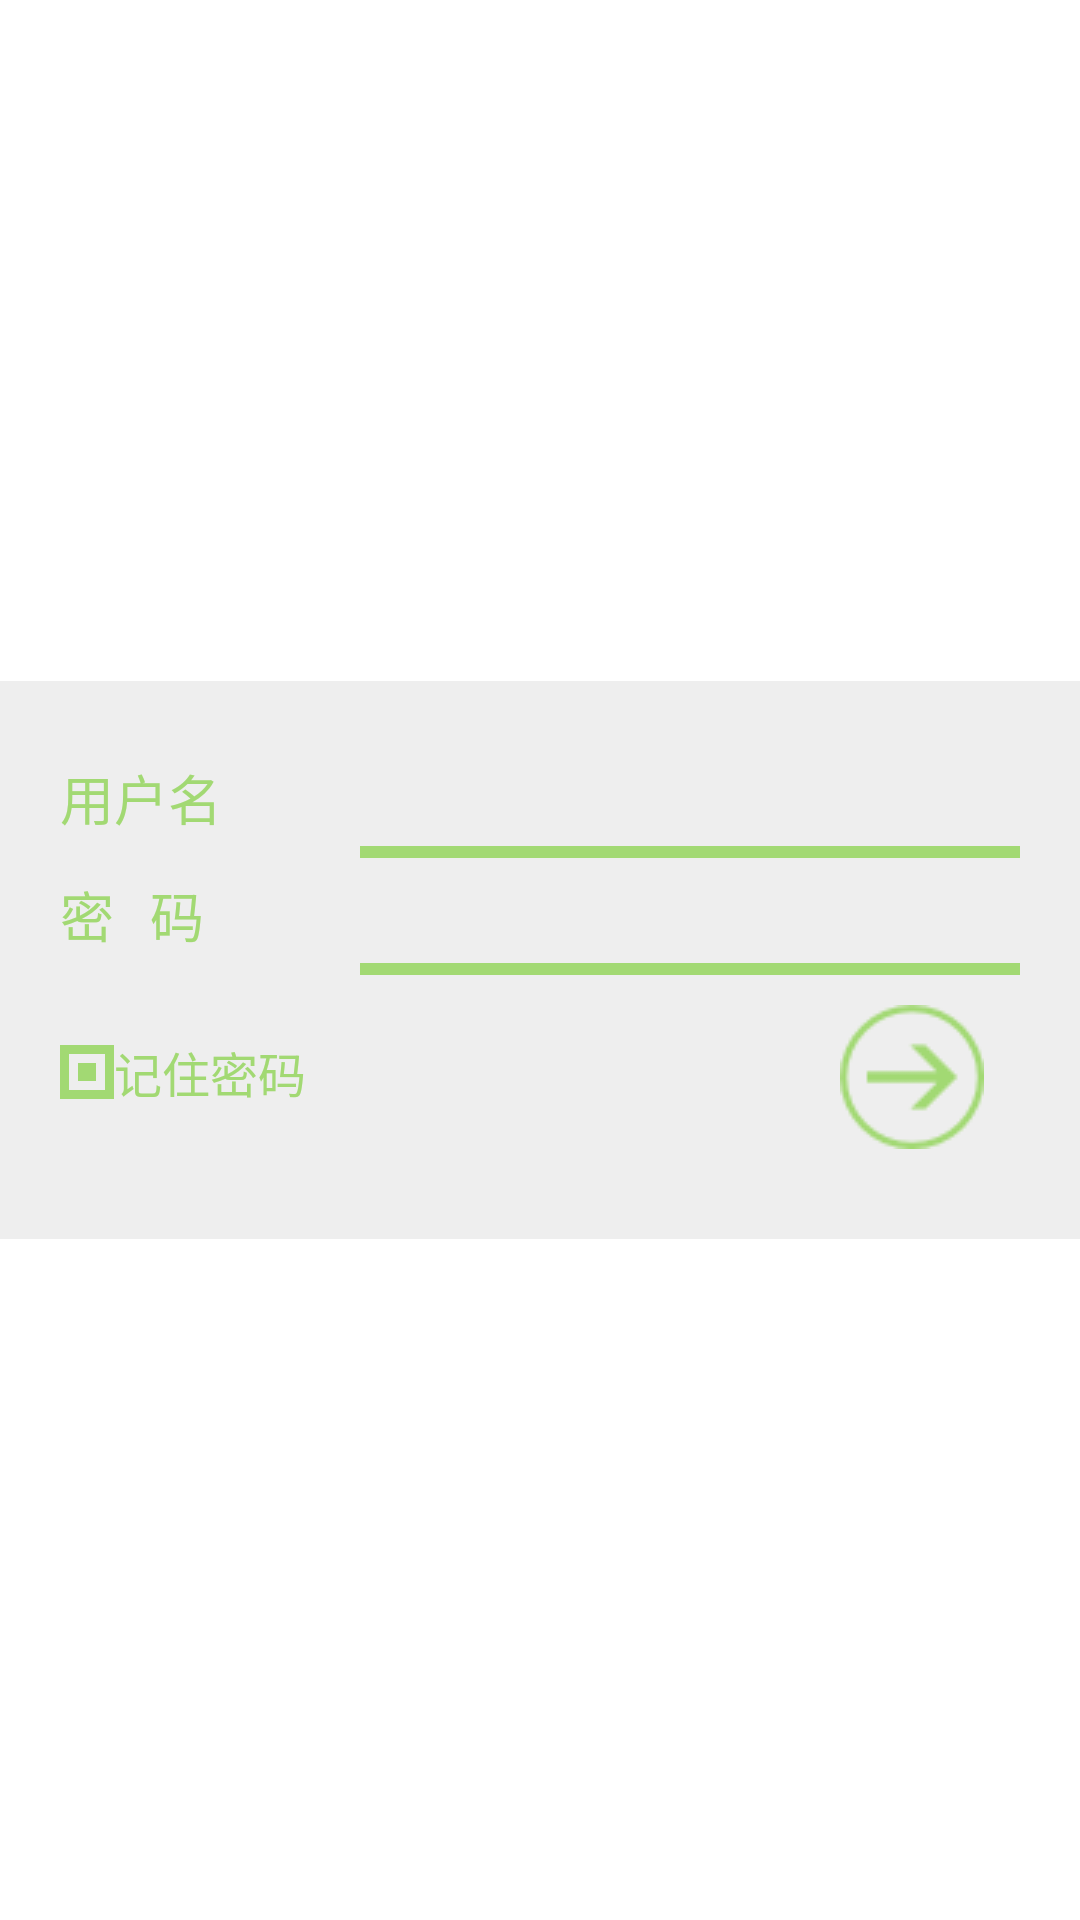

Icons on this 1080*1920 Android screen, each with the point to tap as [x,y]:
login: [912,1077]
